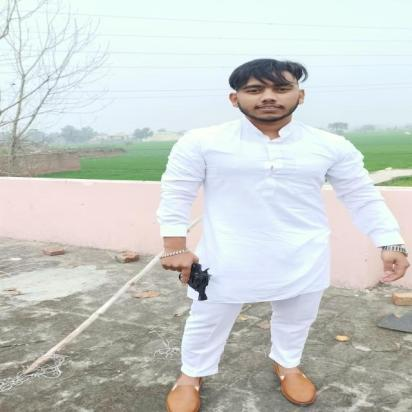Gun: (157, 259, 214, 302)
